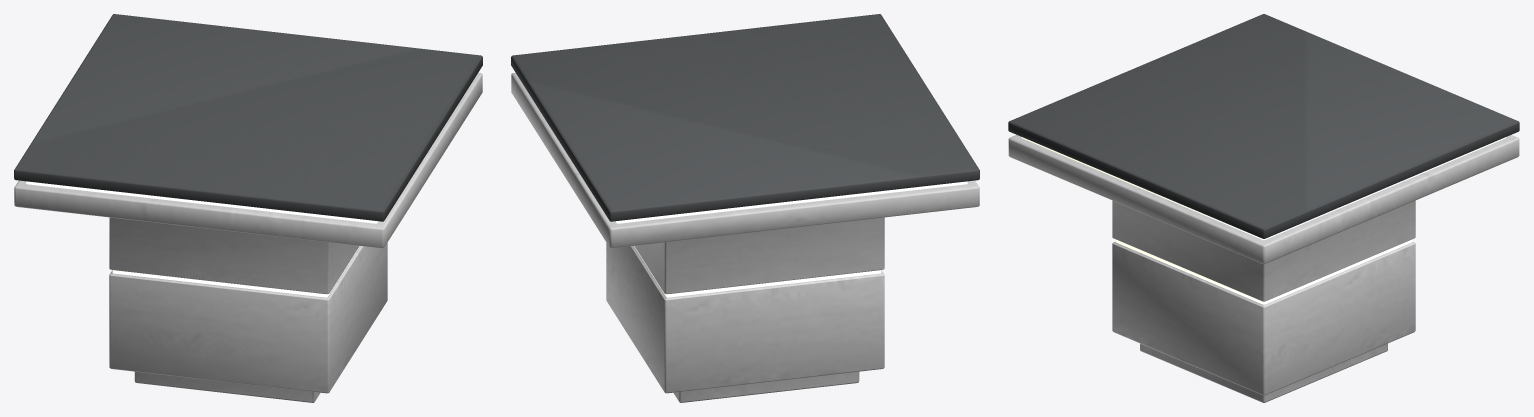
The model's file is EE_Hero_Product_Display.gltf.
3 renders of one model, left to right at view 1: azimuth 30°, elevation 25°; view 2: azimuth 150°, elevation 25°; view 3: azimuth 270°, elevation 25°, orthographic. The views are drawn at different scales.
Parts seen in each view (by area): view 1: EE_Hero_Product_Display.001; view 2: EE_Hero_Product_Display.001; view 3: EE_Hero_Product_Display.001.
Part boxes in pixels (box(x1,y1,x2,y2)): EE_Hero_Product_Display.001: box(14, 14, 482, 402); EE_Hero_Product_Display.001: box(511, 14, 979, 402); EE_Hero_Product_Display.001: box(1008, 14, 1519, 402).
Size of what is drawn, in the model's own units: 1.78 by 0.8823 by 1.78.
Materials: 3 (2 with a texture image).
